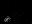person: (4, 14, 10, 23)
